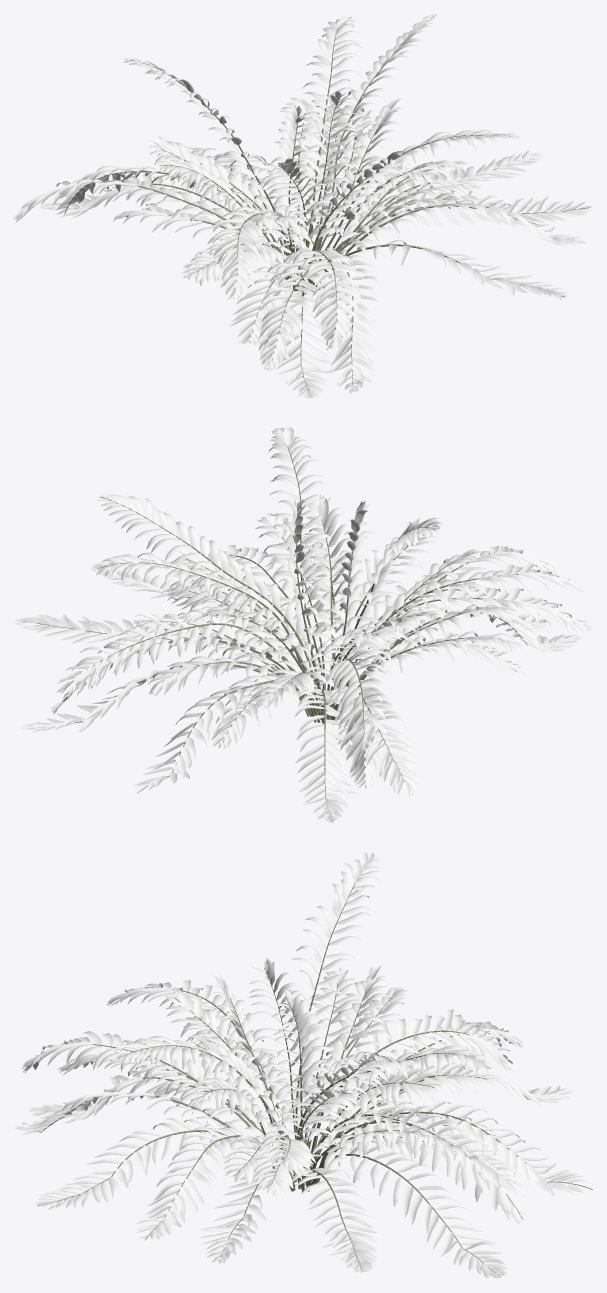
File: su2Fern01 (2).Shape.fbx
3 views of the same model, one above another, from view 1: azimuth 30°, elevation 25°; view 2: azimuth 150°, elevation 25°; view 3: azimuth 270°, elevation 25° (orthographic). The views are drawn at different scales.
Parts seen in each view (by area): view 1: su2Fern01 (2).Shape; view 2: su2Fern01 (2).Shape; view 3: su2Fern01 (2).Shape.
Boxes of the visible parts, x1,y1,x2,y2 form: su2Fern01 (2).Shape: [14, 14, 592, 398]; su2Fern01 (2).Shape: [14, 427, 592, 823]; su2Fern01 (2).Shape: [14, 852, 592, 1278].
Bounding box in the file's own units: 221 × 112 × 227.
